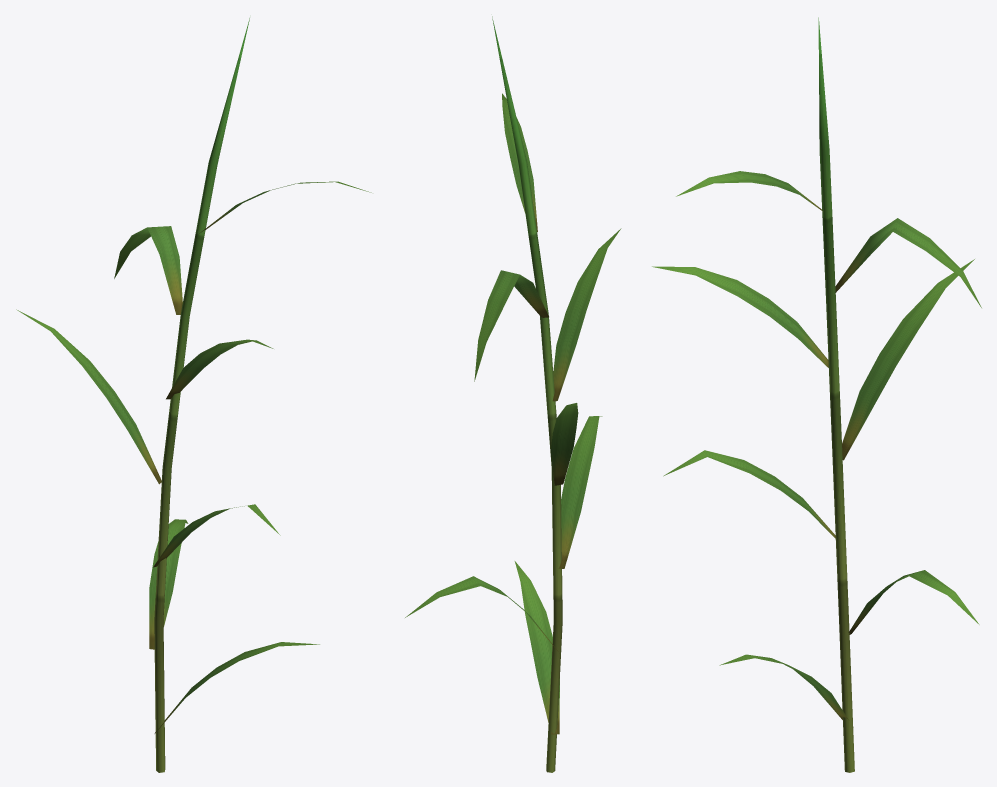
Rendered from reed02.fbx.
The picture shows the model from 3 angles, left to right: view 1: azimuth 30°, elevation 25°; view 2: azimuth 150°, elevation 25°; view 3: azimuth 270°, elevation 25°; orthographic projection. The views are drawn at different scales.
Parts seen in each view (by area): view 1: reed02; view 2: reed02; view 3: reed02.
Part boxes in pixels (x1,y1,x2,y2): reed02: (16, 18, 371, 772); reed02: (405, 16, 621, 772); reed02: (652, 17, 981, 772).
Bounding box in the file's own units: 26.06 × 84.98 × 32.18.
